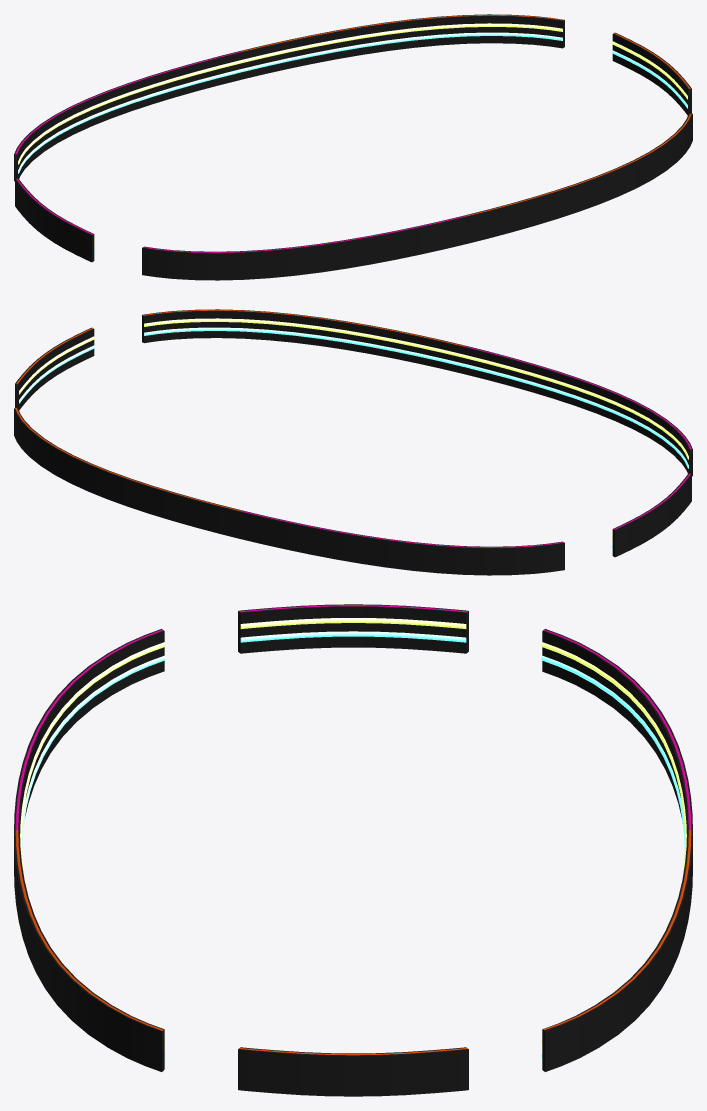
The model's file is mesh_RTA_CTF_walls.fbx.
3 views of the same model, one above another, from view 1: azimuth 30°, elevation 25°; view 2: azimuth 150°, elevation 25°; view 3: azimuth 270°, elevation 25° (orthographic). The views are drawn at different scales.
Parts seen in each view (by area): view 1: mesh_wallSpline_Bottom.001, mesh_wallSpline_Top.001, mesh_wallSpline_Left.001, mesh_wallSpline_Right.001; view 2: mesh_wallSpline_Top.001, mesh_wallSpline_Bottom.001, mesh_wallSpline_Left.001, mesh_wallSpline_Right.001; view 3: mesh_wallSpline_Top.001, mesh_wallSpline_Bottom.001, mesh_wallSpline_Left.001, mesh_wallSpline_Right.001.
Boxes of the visible parts, x1,y1,x2,y2 form: mesh_wallSpline_Bottom.001: [142, 113, 692, 280]; mesh_wallSpline_Top.001: [14, 14, 564, 181]; mesh_wallSpline_Left.001: [15, 178, 94, 262]; mesh_wallSpline_Right.001: [612, 32, 691, 115]; mesh_wallSpline_Top.001: [14, 408, 564, 575]; mesh_wallSpline_Bottom.001: [142, 309, 692, 476]; mesh_wallSpline_Left.001: [612, 473, 691, 557]; mesh_wallSpline_Right.001: [15, 327, 94, 410]; mesh_wallSpline_Top.001: [541, 629, 692, 1071]; mesh_wallSpline_Bottom.001: [14, 629, 165, 1071]; mesh_wallSpline_Left.001: [238, 604, 468, 653]; mesh_wallSpline_Right.001: [238, 1047, 468, 1096].
Bounding box in the file's own units: 57.53 × 2.45 × 36.56.
